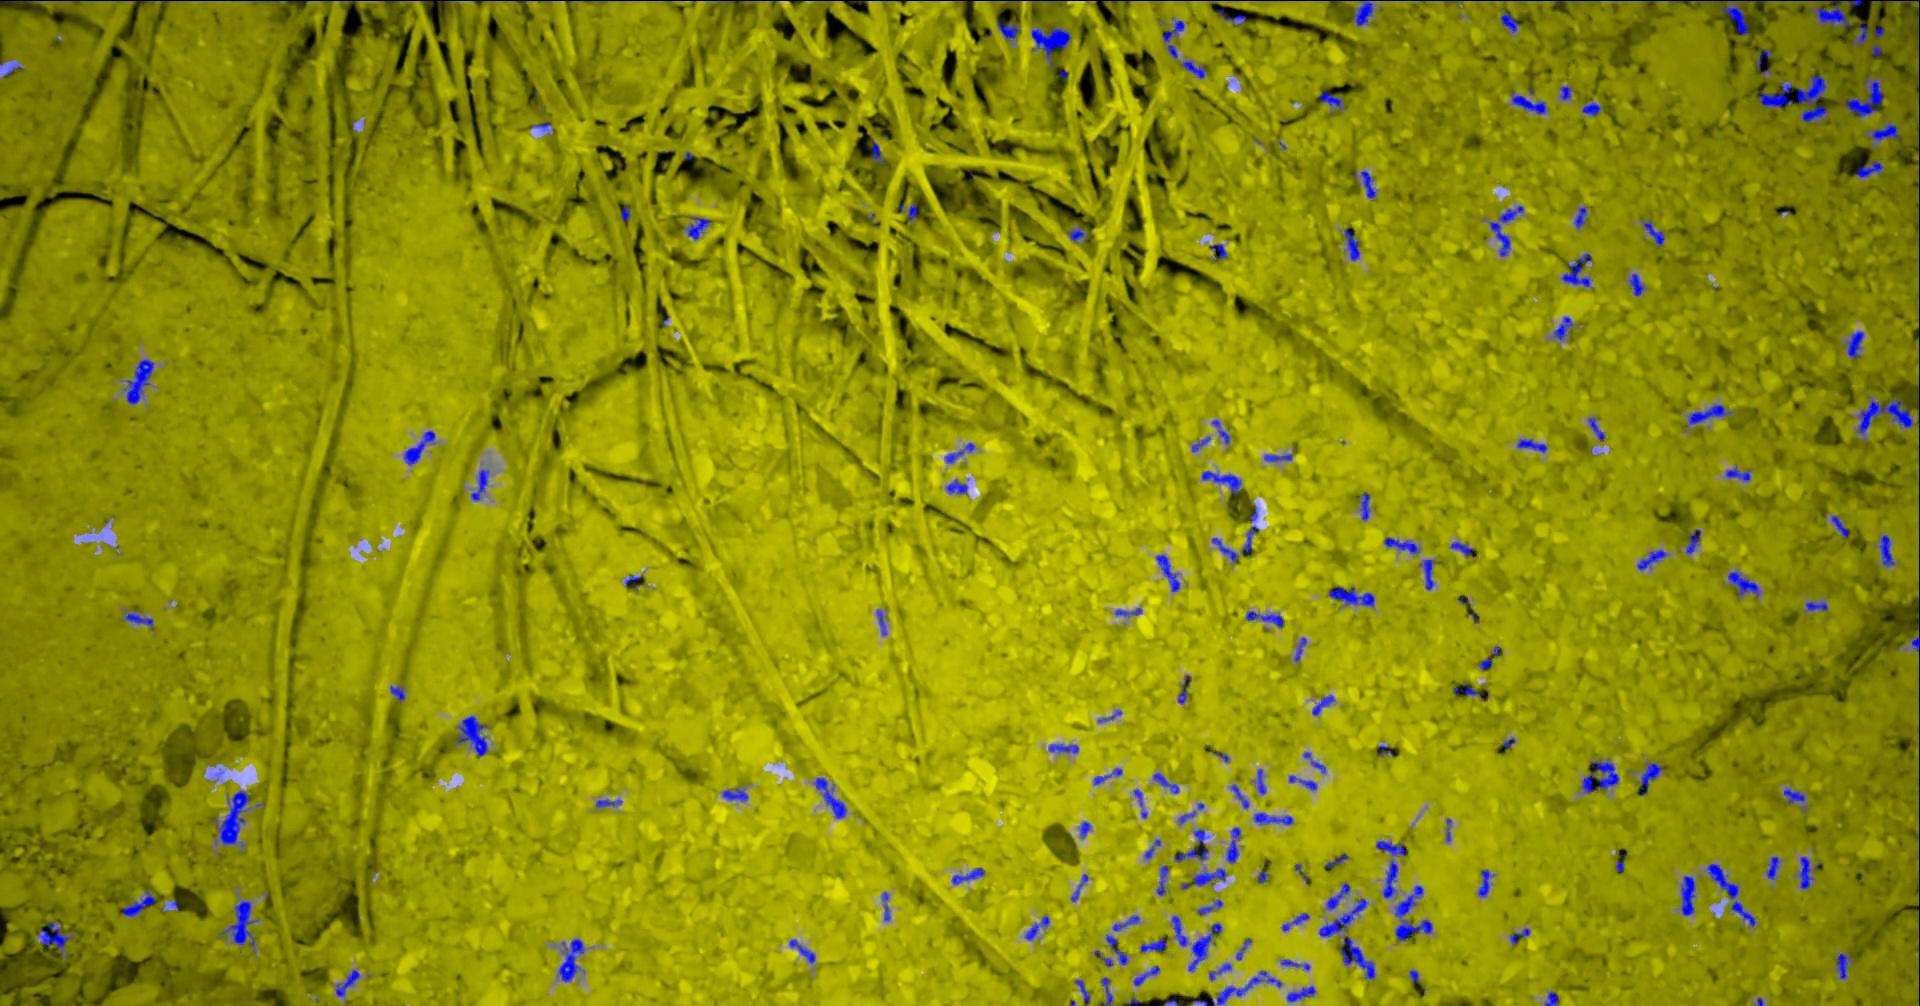ant: (1669, 0, 1768, 36), (1705, 862, 1756, 926), (1190, 970, 1281, 1005), (1394, 885, 1432, 940), (1857, 398, 1912, 434), (1318, 897, 1368, 936), (1488, 205, 1523, 257), (1375, 840, 1406, 898), (216, 790, 248, 845), (220, 901, 257, 948), (1031, 25, 1070, 69), (1187, 922, 1222, 970), (1843, 77, 1883, 117), (1338, 937, 1375, 979), (1796, 75, 1827, 122), (455, 715, 488, 756), (814, 777, 846, 818), (124, 359, 152, 404), (1808, 3, 1851, 30), (1582, 760, 1618, 793), (557, 937, 584, 981), (403, 431, 436, 465), (38, 921, 72, 954), (1175, 828, 1208, 861), (1561, 253, 1591, 286), (1201, 470, 1241, 494), (1328, 586, 1374, 606), (1636, 761, 1662, 795), (121, 889, 155, 916), (1161, 19, 1183, 58), (1688, 404, 1731, 424), (1156, 553, 1178, 591), (1510, 90, 1547, 113), (1757, 83, 1792, 107), (1727, 570, 1759, 596), (1105, 934, 1128, 964), (1636, 549, 1667, 570), (943, 442, 974, 464), (789, 939, 815, 963), (335, 969, 359, 996), (1326, 882, 1349, 909), (1244, 611, 1283, 627), (1799, 856, 1818, 889), (1211, 537, 1237, 561), (1023, 915, 1049, 939), (683, 216, 710, 239), (1642, 218, 1663, 246), (1680, 875, 1695, 915), (1865, 122, 1898, 140), (470, 467, 488, 500), (1383, 536, 1418, 553), (1192, 868, 1225, 885), (1241, 525, 1258, 556), (1351, 0, 1373, 25), (951, 868, 984, 884), (1343, 226, 1359, 260), (1217, 8, 1246, 25), (1153, 772, 1178, 793), (1133, 965, 1159, 984), (1879, 533, 1895, 567), (1171, 915, 1187, 945), (1253, 812, 1293, 824), (124, 610, 152, 627), (1225, 827, 1239, 862), (1281, 912, 1309, 930), (1310, 695, 1335, 715), (1318, 90, 1343, 109), (1286, 984, 1316, 1001), (1303, 751, 1324, 772), (1418, 559, 1434, 589), (1070, 873, 1087, 901), (1553, 316, 1572, 340), (1180, 60, 1205, 77), (1845, 332, 1863, 357), (1211, 419, 1229, 445), (1855, 160, 1882, 177), (1112, 915, 1139, 931), (1208, 962, 1230, 981), (1230, 784, 1248, 808), (1360, 170, 1375, 198), (1516, 438, 1547, 452), (1093, 768, 1121, 784), (1288, 775, 1316, 790), (997, 20, 1018, 39), (1133, 789, 1147, 818), (1755, 50, 1771, 74), (1836, 951, 1850, 979), (1498, 11, 1517, 32), (1156, 865, 1168, 895), (1587, 417, 1604, 439), (1831, 514, 1848, 537), (1477, 869, 1491, 895), (1685, 528, 1700, 553), (1197, 899, 1222, 915), (1509, 927, 1529, 945), (1724, 467, 1750, 481), (1177, 674, 1190, 702), (1140, 937, 1166, 951), (870, 141, 885, 164), (1280, 959, 1310, 970), (1074, 979, 1090, 1002), (1629, 273, 1644, 295), (1783, 788, 1804, 803), (1236, 937, 1251, 959), (1451, 682, 1477, 695), (721, 788, 747, 800), (945, 479, 968, 493), (1357, 492, 1369, 520), (1324, 854, 1347, 868), (1101, 977, 1112, 1005), (1851, 24, 1867, 44), (1067, 226, 1087, 241), (623, 574, 644, 589), (1048, 743, 1078, 753), (1144, 840, 1161, 857), (1191, 436, 1210, 451), (1766, 856, 1779, 879), (1450, 541, 1470, 555), (1114, 607, 1142, 617), (1294, 636, 1305, 661), (389, 685, 405, 701), (876, 608, 886, 635), (1581, 102, 1600, 116), (881, 890, 890, 920), (1210, 243, 1225, 259), (1575, 206, 1586, 227), (1256, 768, 1265, 794), (1263, 453, 1291, 461), (1804, 601, 1827, 610), (1078, 821, 1090, 838), (1544, 991, 1558, 1005), (596, 799, 621, 807), (907, 203, 917, 221), (620, 205, 630, 220), (1478, 658, 1491, 669), (1559, 85, 1570, 99)
